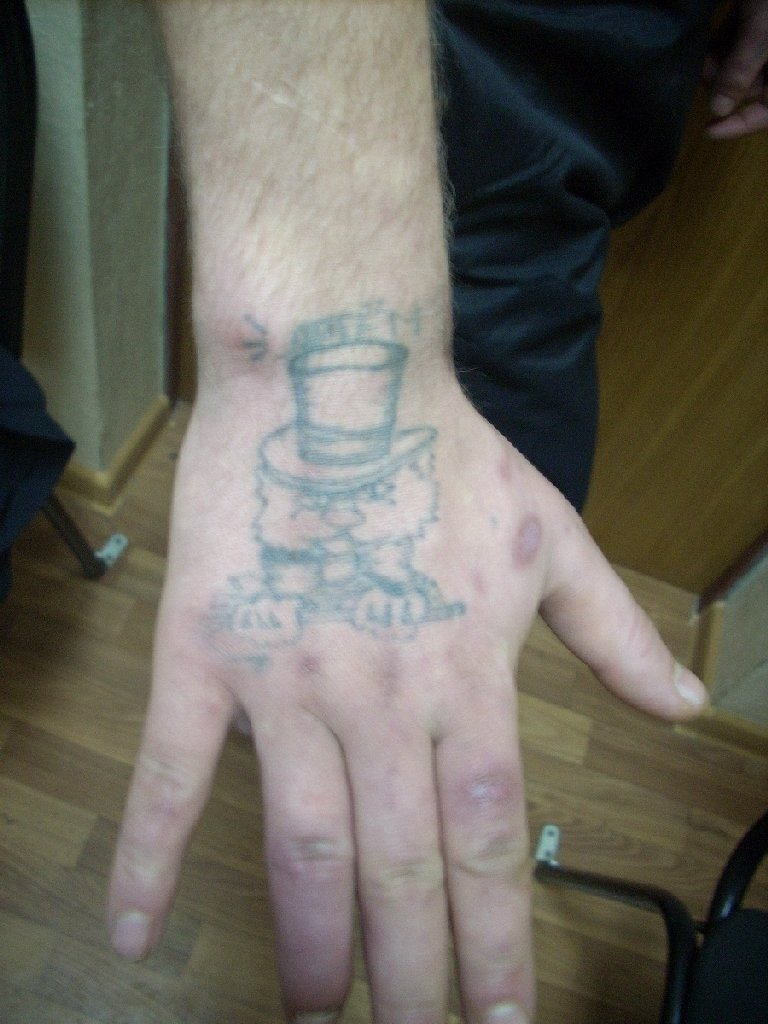tatu8_kot: (216, 345, 476, 653)
